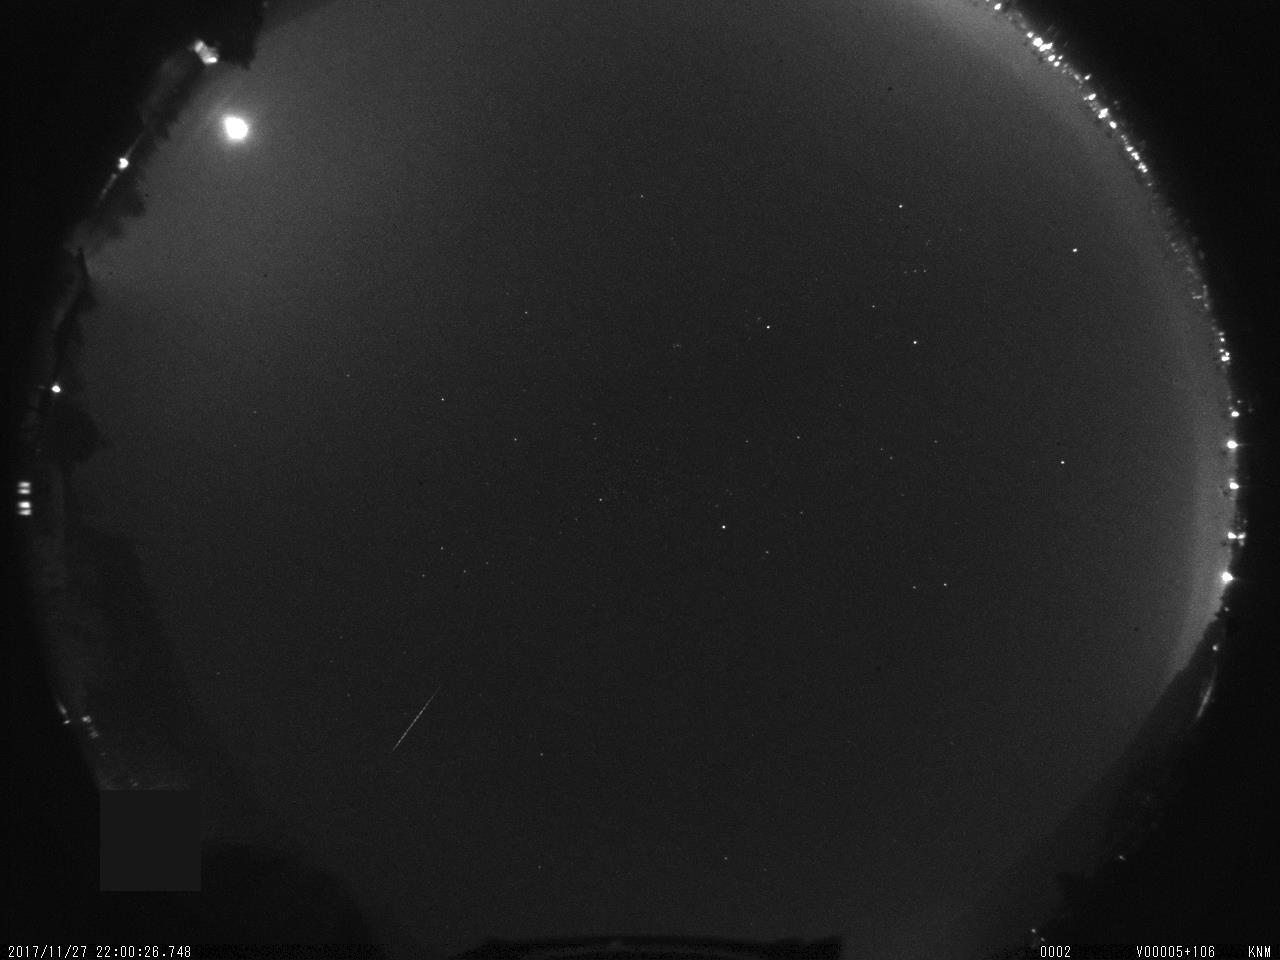meteor: (366, 664, 457, 767)
